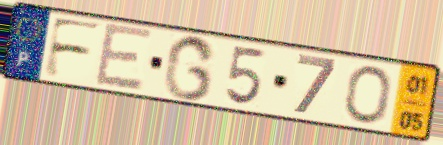5: (224, 43, 267, 107)
7: (290, 52, 341, 119)
E: (93, 20, 155, 93)
F: (40, 15, 106, 81)
G: (160, 34, 218, 103)
O: (343, 64, 393, 127)
